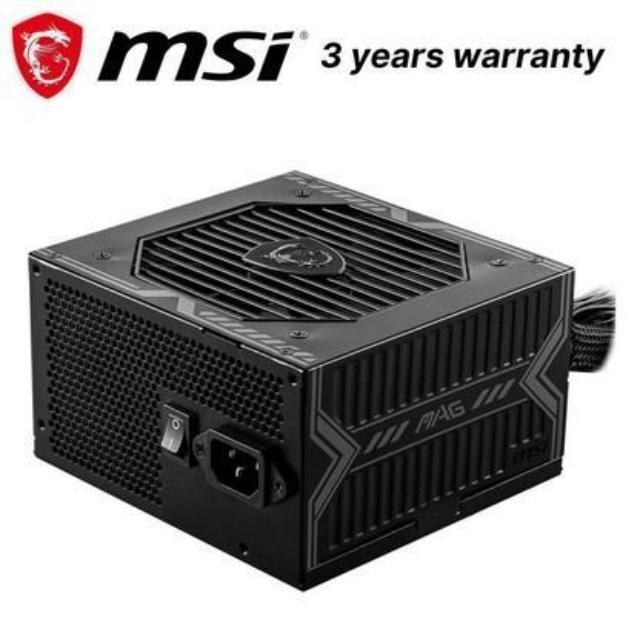PSU: (18, 158, 582, 594)
